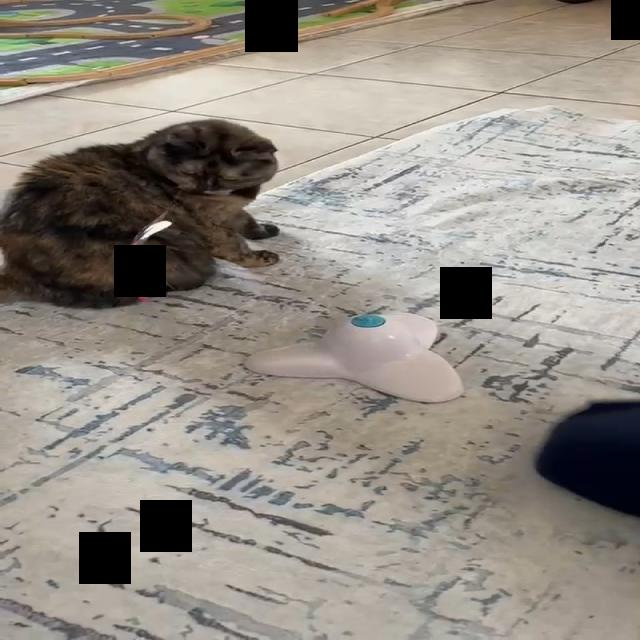authorized: (0, 117, 281, 309)
